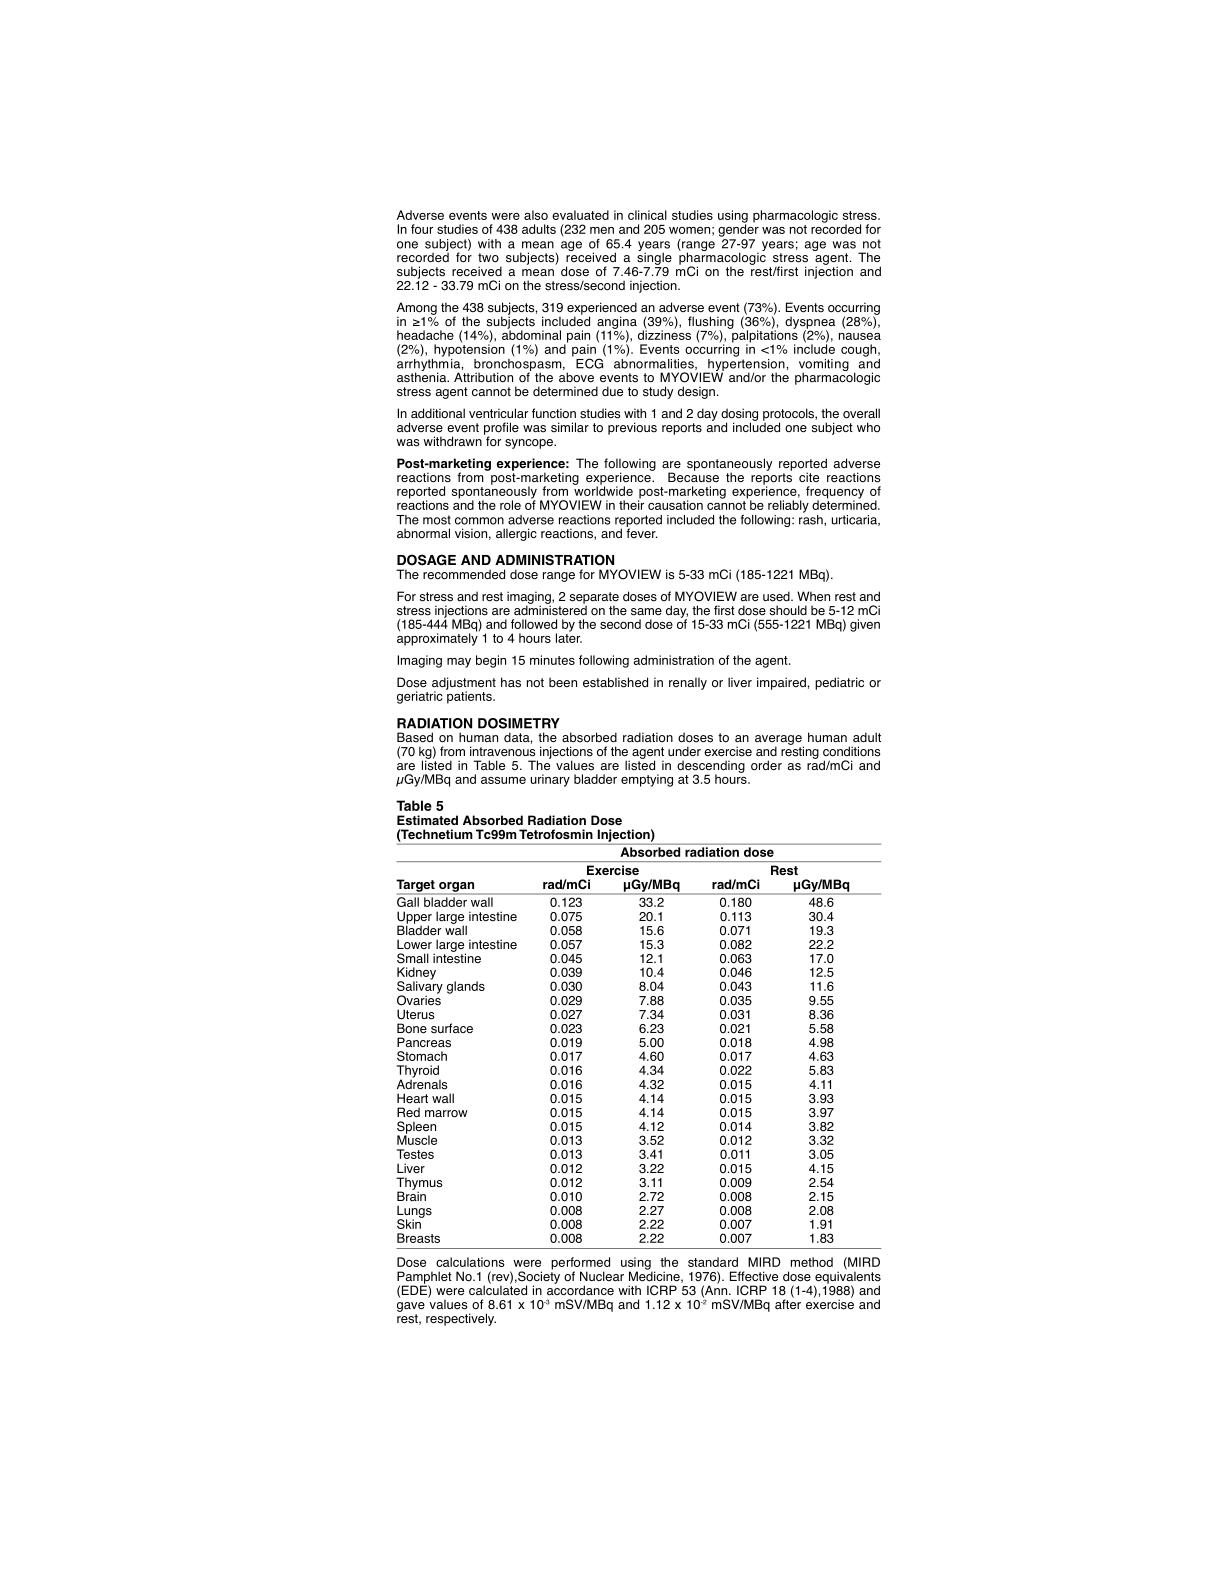partial_lined_merged_cells: (393, 840, 881, 1250)
